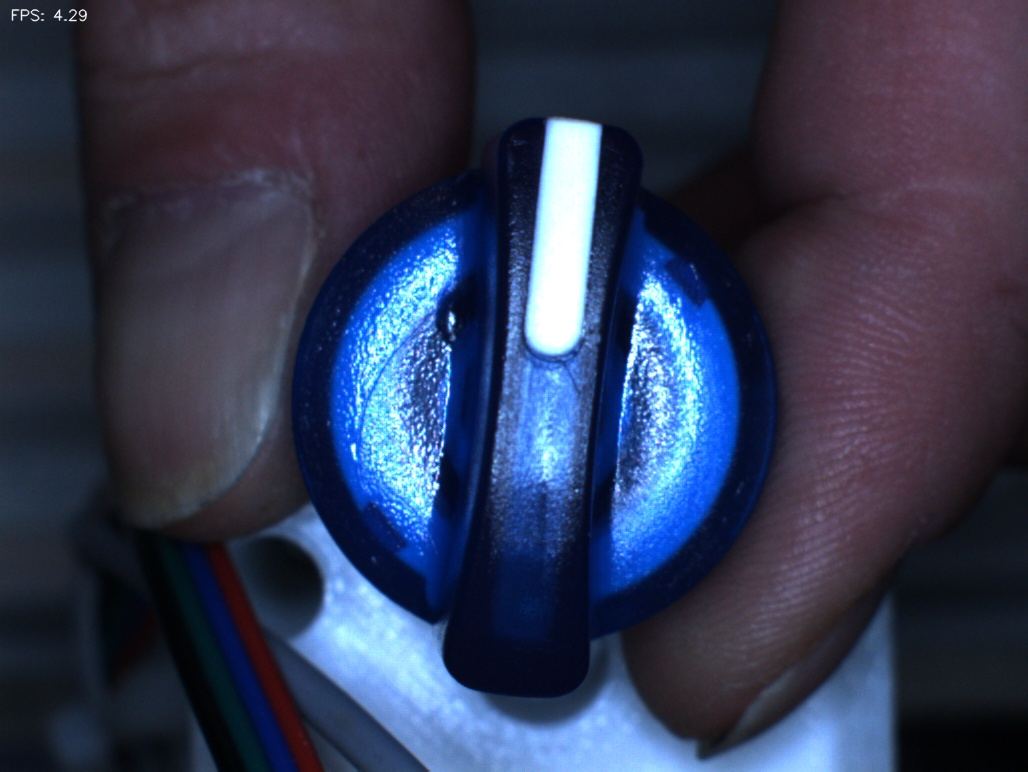Choc: (421, 271, 499, 349)
